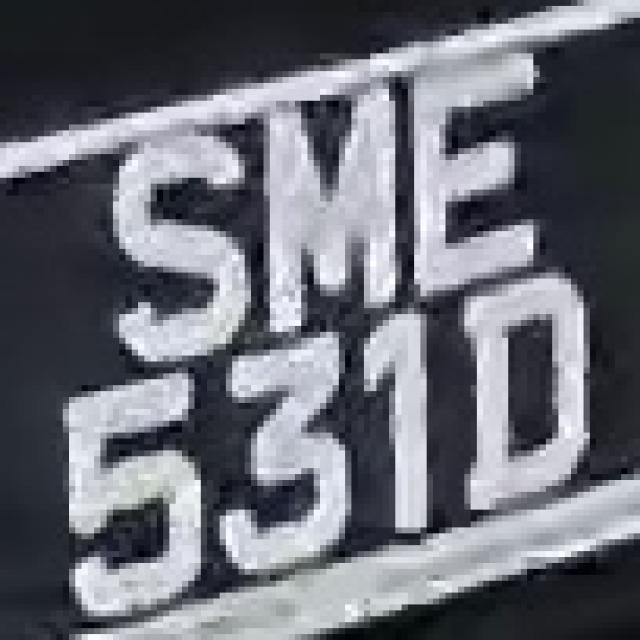1: (351, 284, 452, 557)
3: (207, 320, 358, 587)
5: (44, 385, 220, 616)
D: (458, 261, 602, 533)
E: (395, 42, 552, 290)
M: (232, 77, 408, 332)
S: (88, 118, 263, 362)
